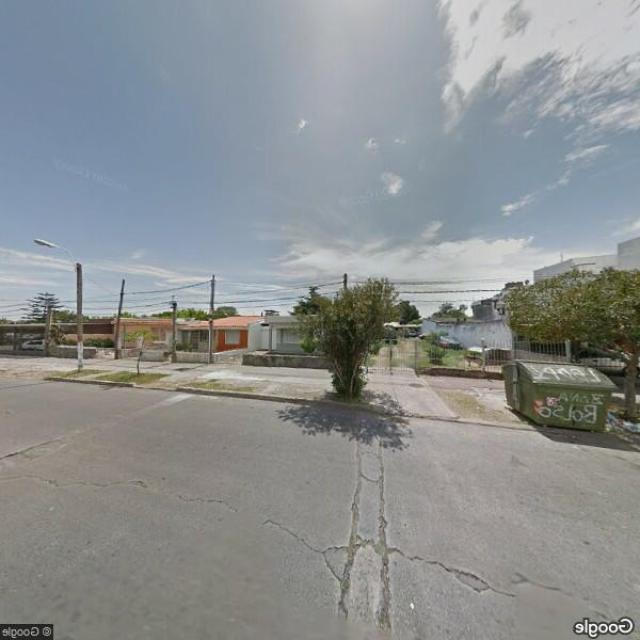garbage container: (489, 352, 626, 451)
